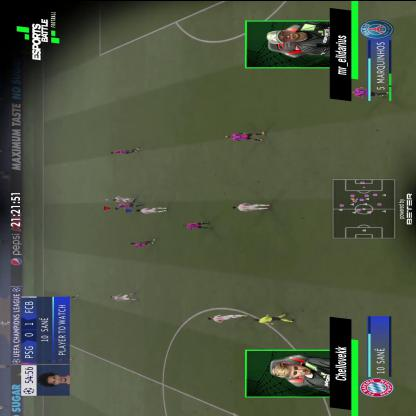ball: (138, 208, 142, 211)
